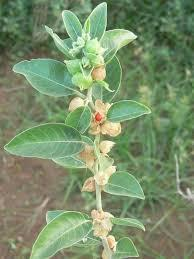healthy_leaf: (15, 17, 192, 259)
